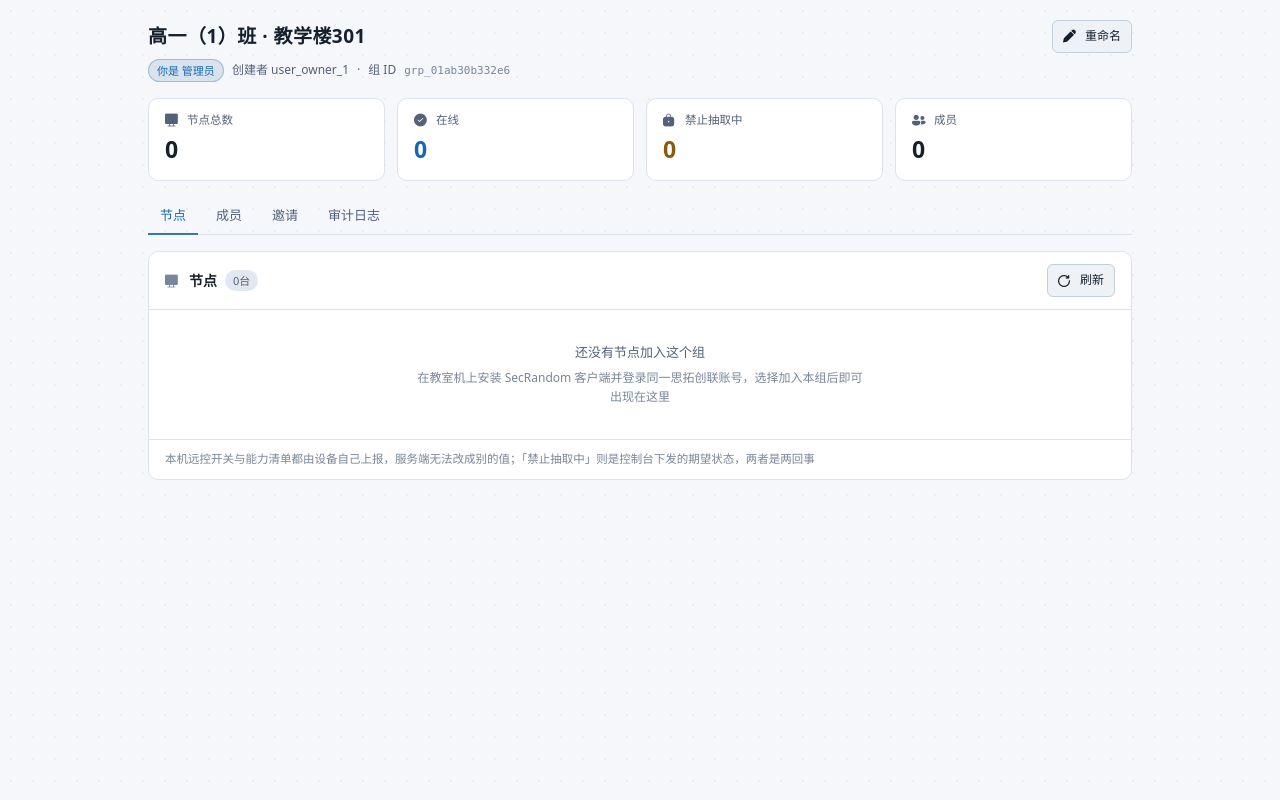
Test case: GroupDetailView 转让创建者 › 受让方（非 owner）也能看到「接受 / 拒绝」
This screenshot has width=1280, height=800.
Click the button with test id "tab-members".
click(229, 216)  # box [204, 197, 254, 235]
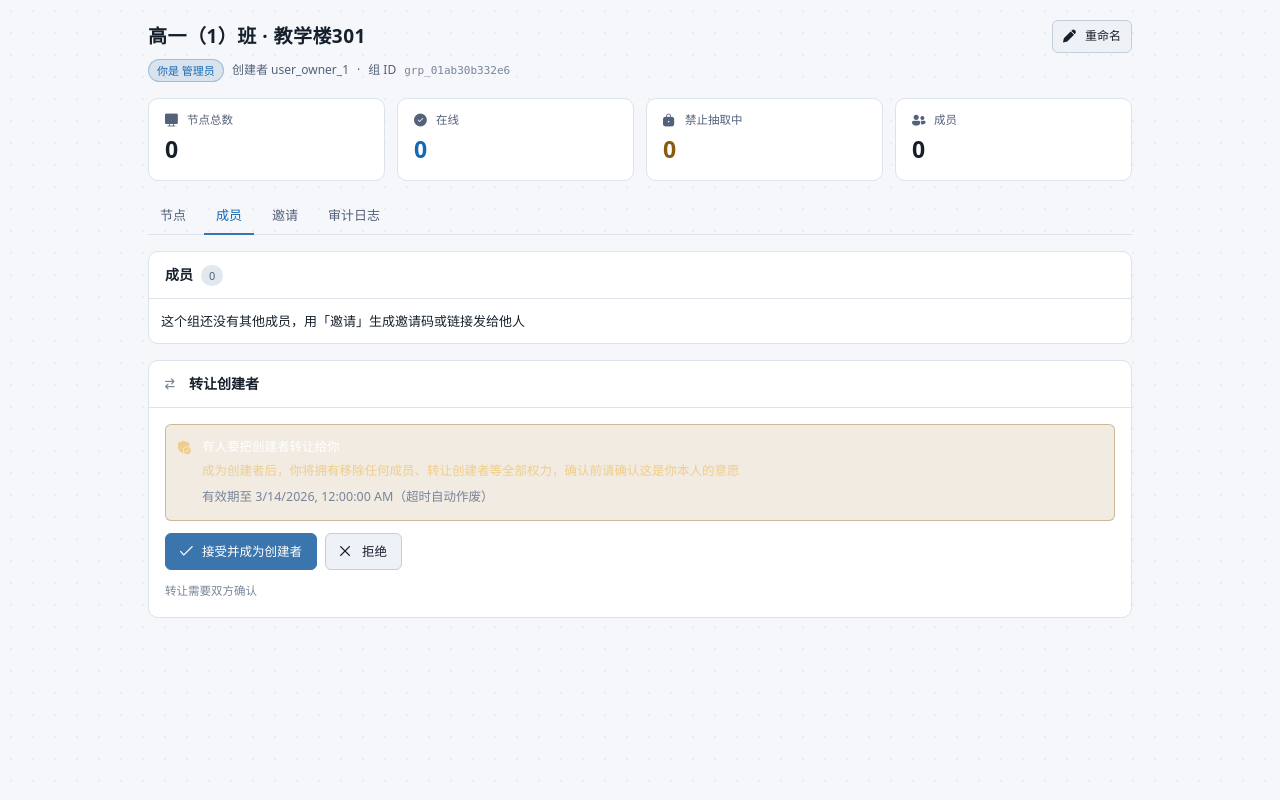
Now the button with test id "transfer-accept" is shown, box [165, 533, 317, 570]
Now the button with test id "transfer-reject" is shown, box [325, 533, 402, 570]
